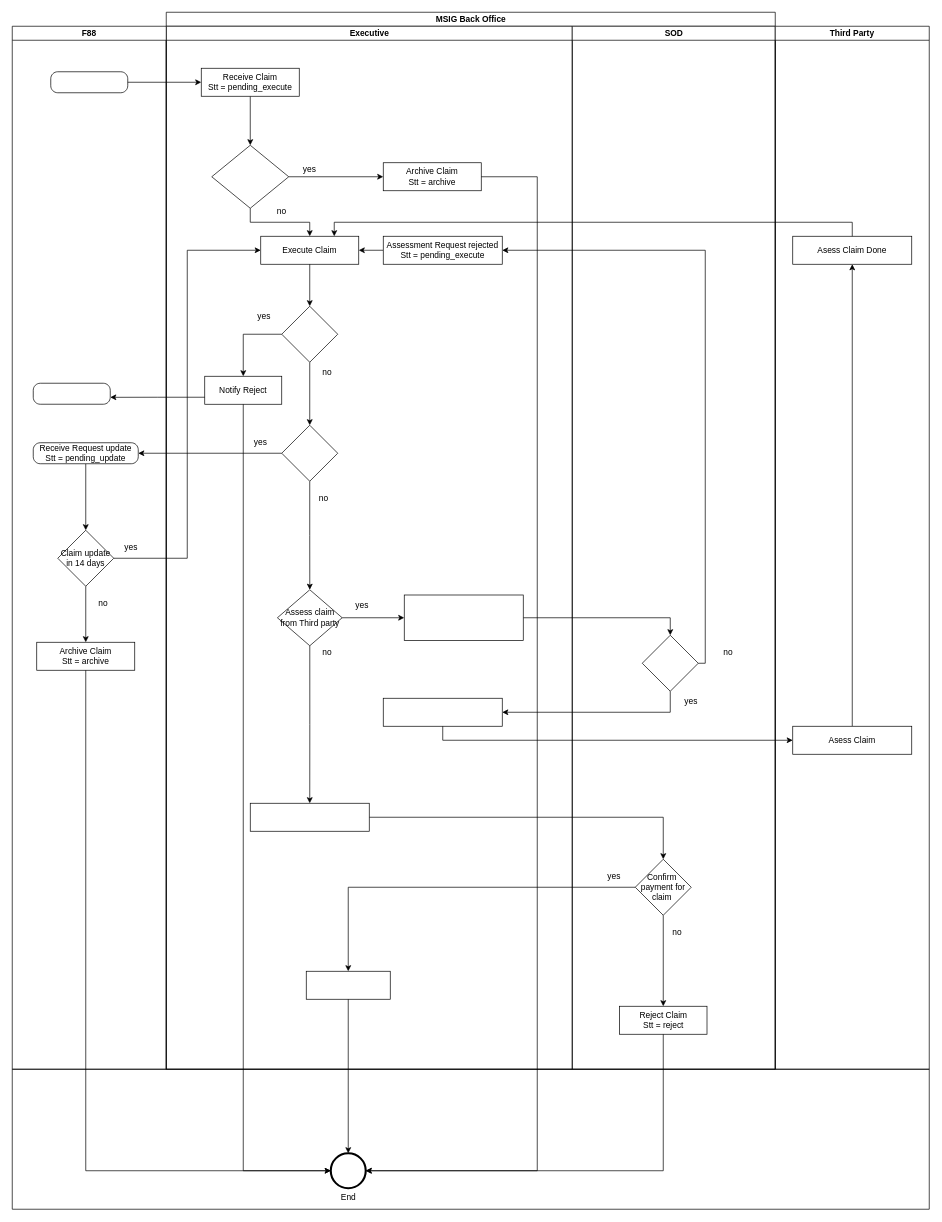
This 942x1222 diagram has some shape labels left out. The shapes that lost their labels are listed below. From the top down, each one's centre as x and y in pixels, then its label:
At point (89, 82): "Send Claim".
At point (250, 176): "Claim not executed in 14 days (status not changed)".
At point (309, 334): "Reject Stt = reject".
At point (71, 393): "Receive Reject".
At point (309, 453): "Request F88 to update".
At point (463, 617): "Request SOD for Assessment Stt = pending_accept_assess".
At point (670, 663): "Accept assessment".
At point (442, 712): "Assessment Request accepted Stt = pending_asess".
At point (309, 817): "Assign SOD for confirmation Stt = pending_confirmation".
At point (348, 985): "Claim Issued Stt = issue".
